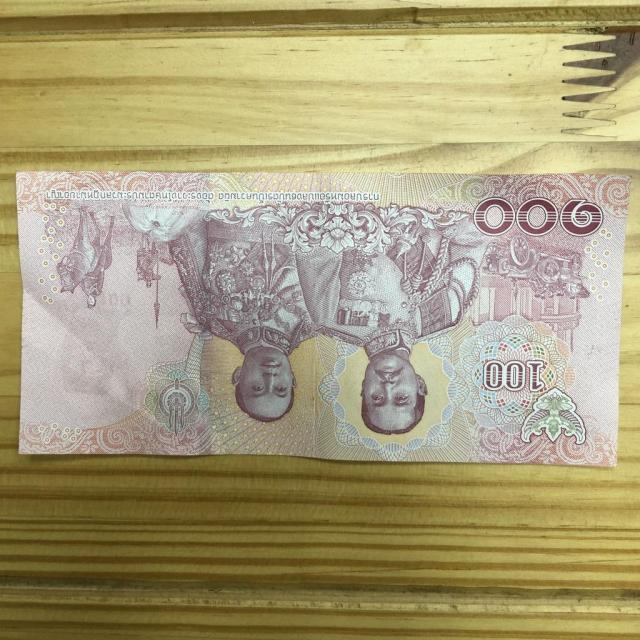THAI100: (17, 171, 632, 467)
